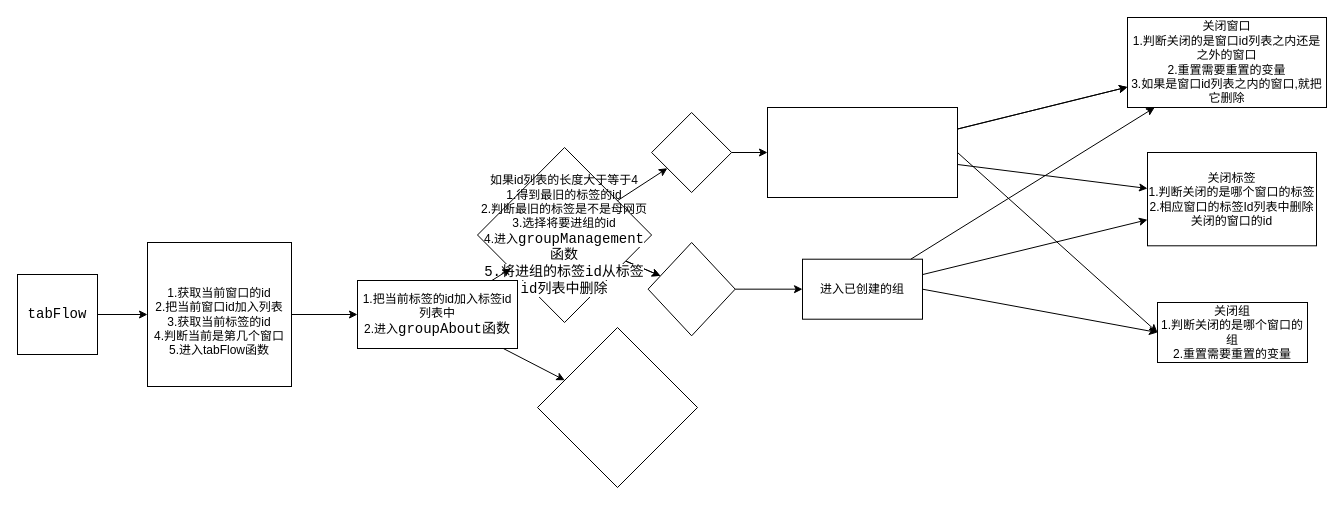
Some shapes in this 1344 by 505 pixel diagram are drawn without their labels. Here are the shapes that lost their labels. From the top down, the centre of each, then its label:
[691,152]: 如果锁是开的
[862,152]: 1.创建一个组 2.折叠组并且把组移动到浏览器的开头位置 3.把锁关上
[691,289]: 如果锁是关的
[617,407]: 如果 id列表的长度 小于4 继续获得标签
